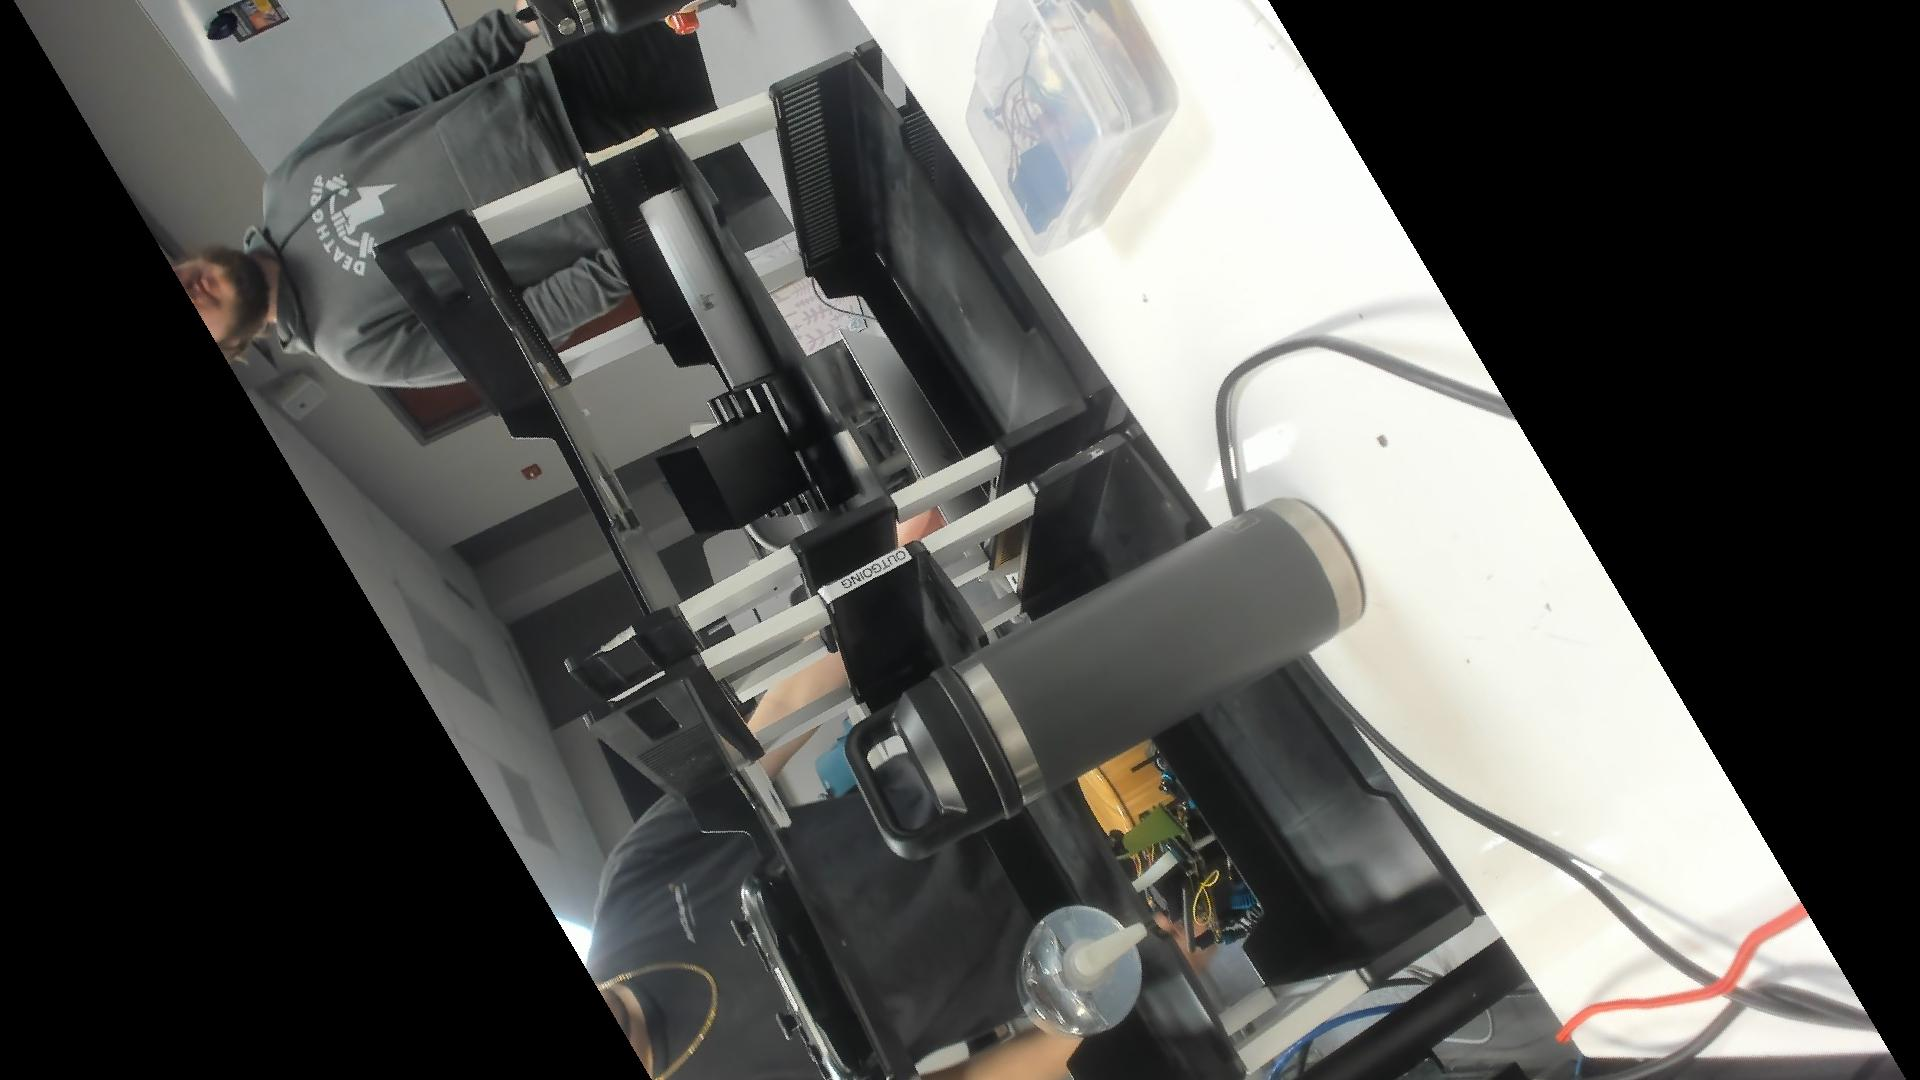black pallet: (654, 364, 860, 545)
